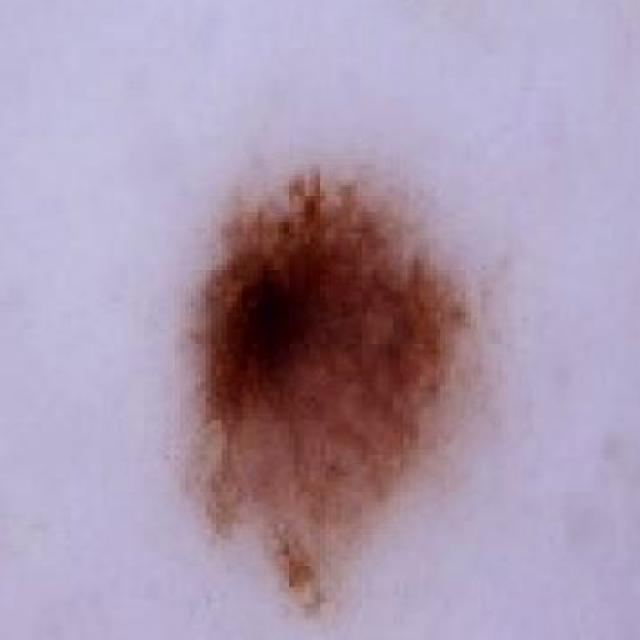BKL: (113, 79, 528, 617)
